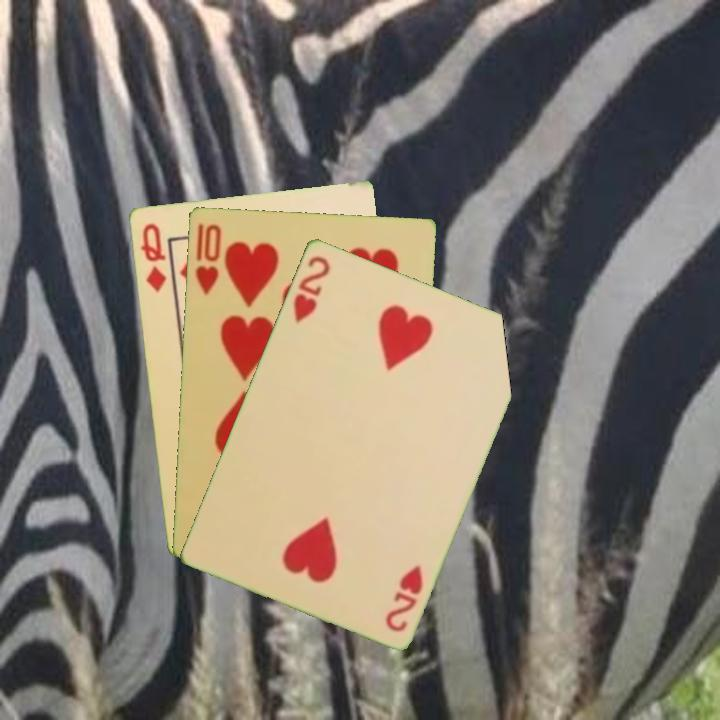10h: (192, 220, 224, 297)
2h: (289, 251, 333, 326), (381, 561, 426, 634)
Qd: (136, 219, 169, 295)
